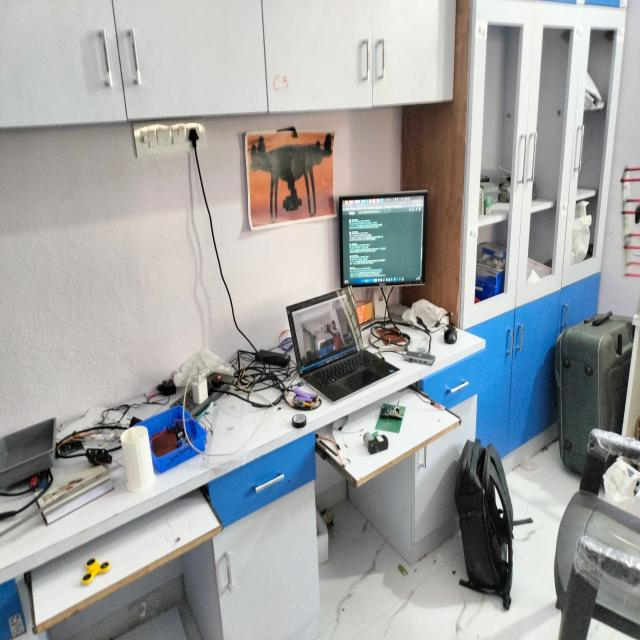drone: (246, 137, 336, 220)
